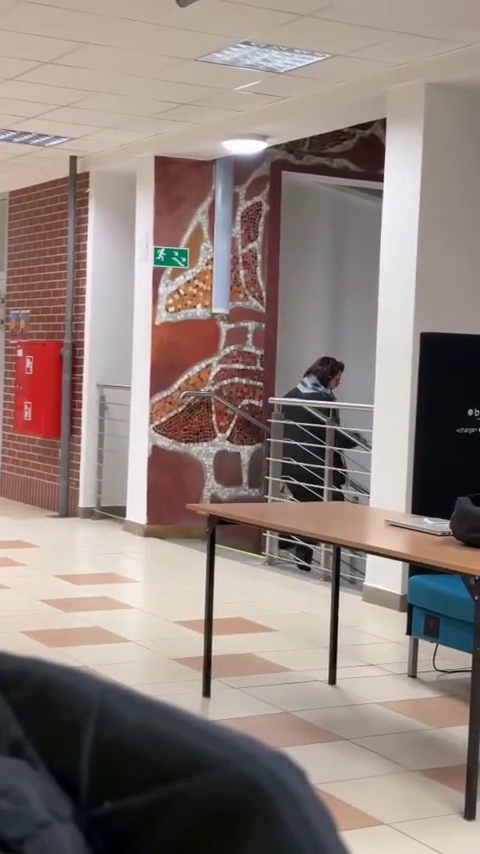no vest: (277, 351, 359, 575)
